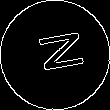N_W: (26, 30, 84, 80)
